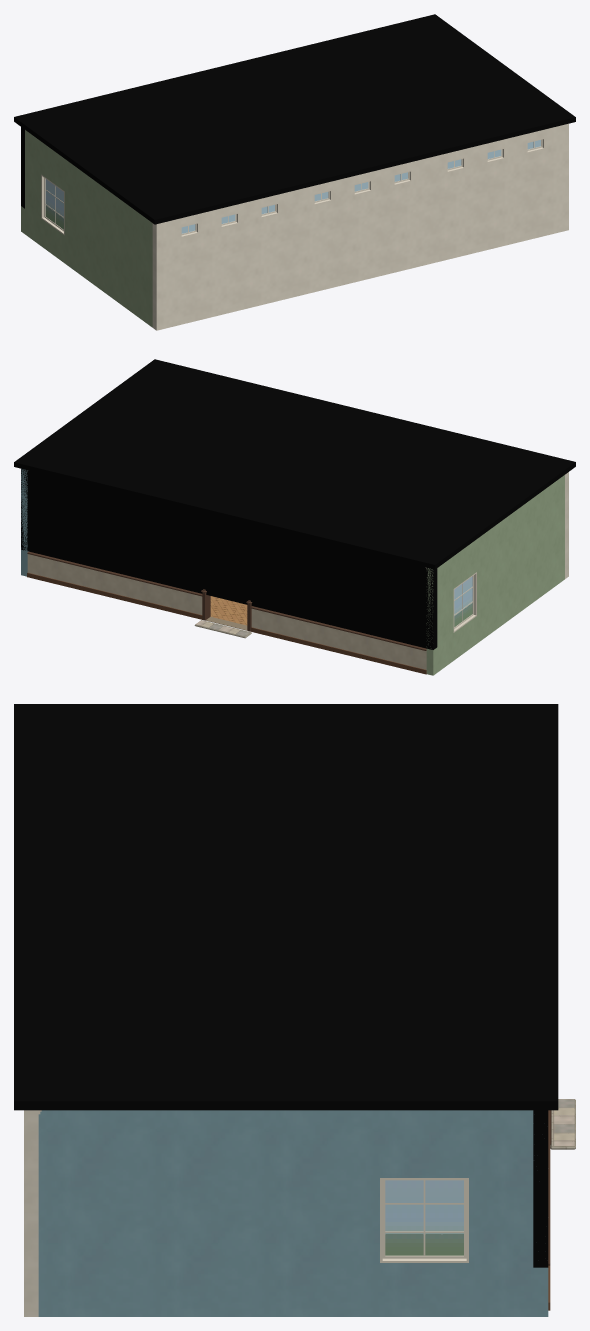
The model's file is museum.glb.
The picture shows the model from 3 angles, top to bottom: view 1: azimuth 30°, elevation 25°; view 2: azimuth 150°, elevation 25°; view 3: azimuth 270°, elevation 25°; orthographic projection. The views are drawn at different scales.
Visible parts, largest first — view 1: museum_caster, museum_shell, museum_windows; view 2: museum_caster, museum_shell, museum_windows; view 3: museum_caster, museum_shell, museum_windows.
Boxes of the visible parts, <box> form: museum_caster: <box>14,14,575,224</box>; museum_shell: <box>21,123,568,330</box>; museum_windows: <box>45,140,540,233</box>; museum_caster: <box>14,359,575,649</box>; museum_shell: <box>21,468,568,675</box>; museum_windows: <box>454,576,472,626</box>; museum_caster: <box>14,704,558,1267</box>; museum_shell: <box>24,1099,575,1316</box>; museum_windows: <box>385,1180,463,1255</box>.
Bounding box in the file's own units: 19 × 4.98 × 11.36.
Materials: 20 (12 with a texture image).
